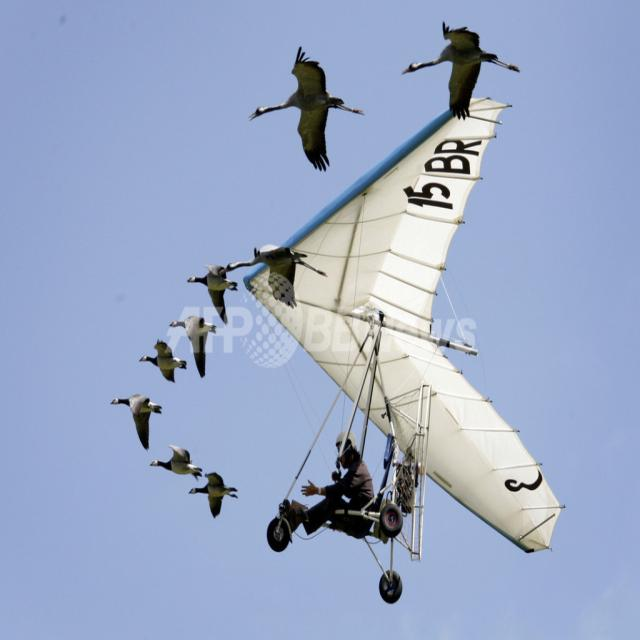bird: (250, 51, 370, 174), (404, 27, 520, 122), (236, 249, 330, 311), (170, 310, 217, 380), (110, 398, 166, 452), (188, 265, 241, 320), (190, 474, 240, 522), (138, 343, 190, 386), (150, 446, 200, 480)
